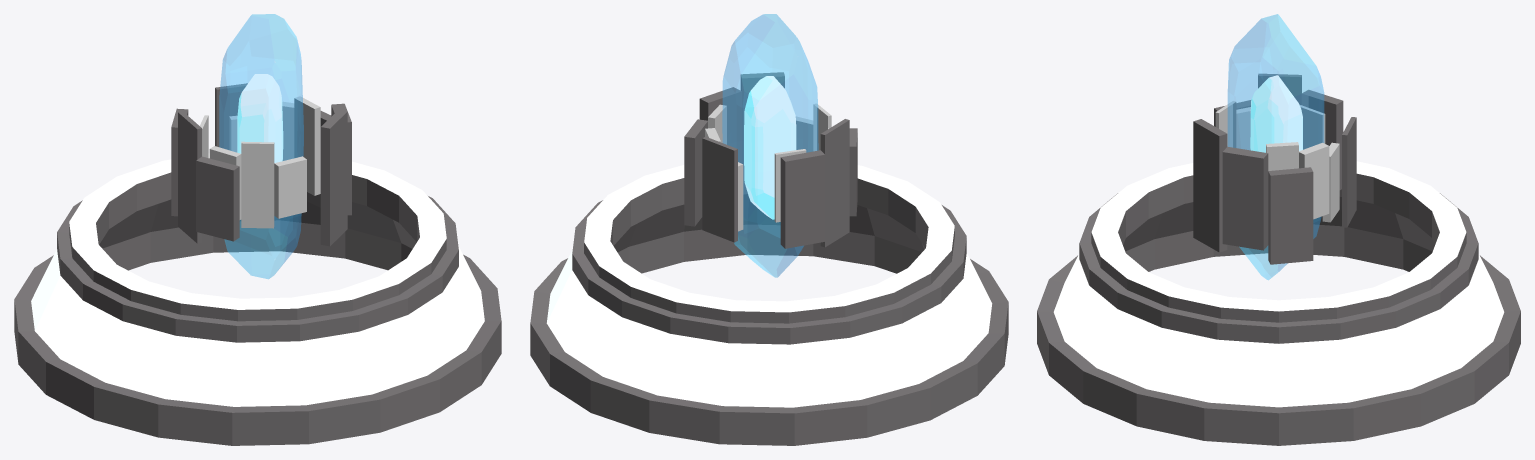
The model's file is crystal_structure.glb.
3 renders of one model, left to right at view 1: azimuth 30°, elevation 25°; view 2: azimuth 150°, elevation 25°; view 3: azimuth 270°, elevation 25°, orthographic.
Visible parts, largest first — view 1: crystarBase; view 2: crystarBase; view 3: crystarBase.
Boxes of the visible parts, left/top/right/bottom form: crystarBase: left=14, top=14, right=501, bottom=445; crystarBase: left=530, top=14, right=1008, bottom=445; crystarBase: left=1037, top=14, right=1520, bottom=445.
Size of the model in its own units: 4.62 by 3.44 by 4.62.
